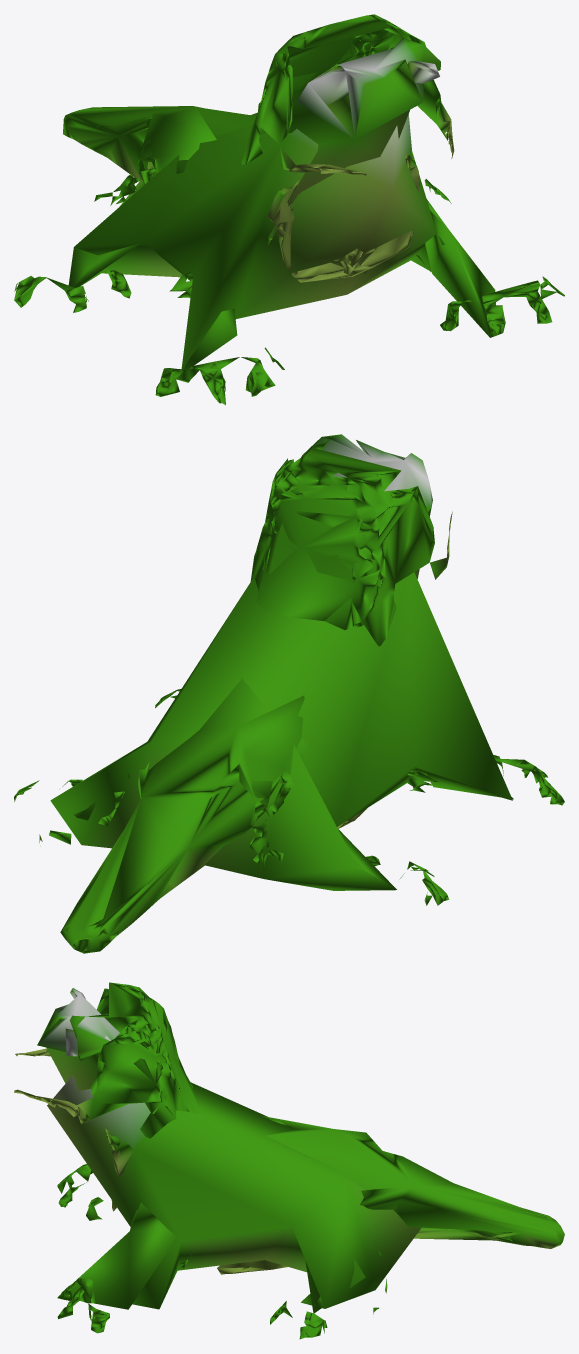
Rendered from gen3d-gecko-lod0.glb.
3 views of the same model, one above another, from view 1: azimuth 30°, elevation 25°; view 2: azimuth 150°, elevation 25°; view 3: azimuth 270°, elevation 25° (orthographic). The views are drawn at different scales.
Visible parts, largest first — view 1: part_0; view 2: part_0; view 3: part_0.
Part boxes in pixels (x1,y1,x2,y2): part_0: (14,14,564,405); part_0: (14,434,564,953); part_0: (14,982,564,1339).
Bounding box in the file's own units: 1.44 × 0.9912 × 1.93.
